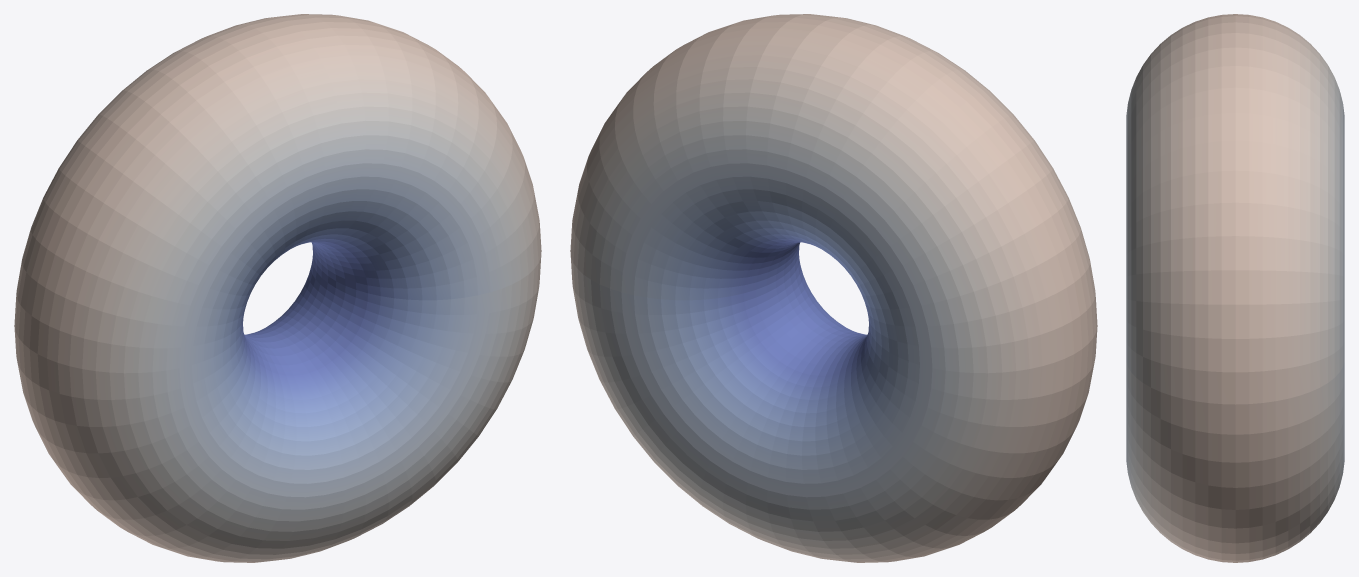
3 views of the same model, side by side, from view 1: azimuth 30°, elevation 25°; view 2: azimuth 150°, elevation 25°; view 3: azimuth 270°, elevation 25° (orthographic). The views are drawn at different scales.
Parts seen in each view (by area): view 1: world; view 2: world; view 3: world.
Boxes of the visible parts, x1,y1,x2,y2 form: world: (14,14,541,562); world: (570,14,1097,562); world: (1126,14,1344,562).
Size of the model in its own units: 21.07 by 21.03 by 8.38.
